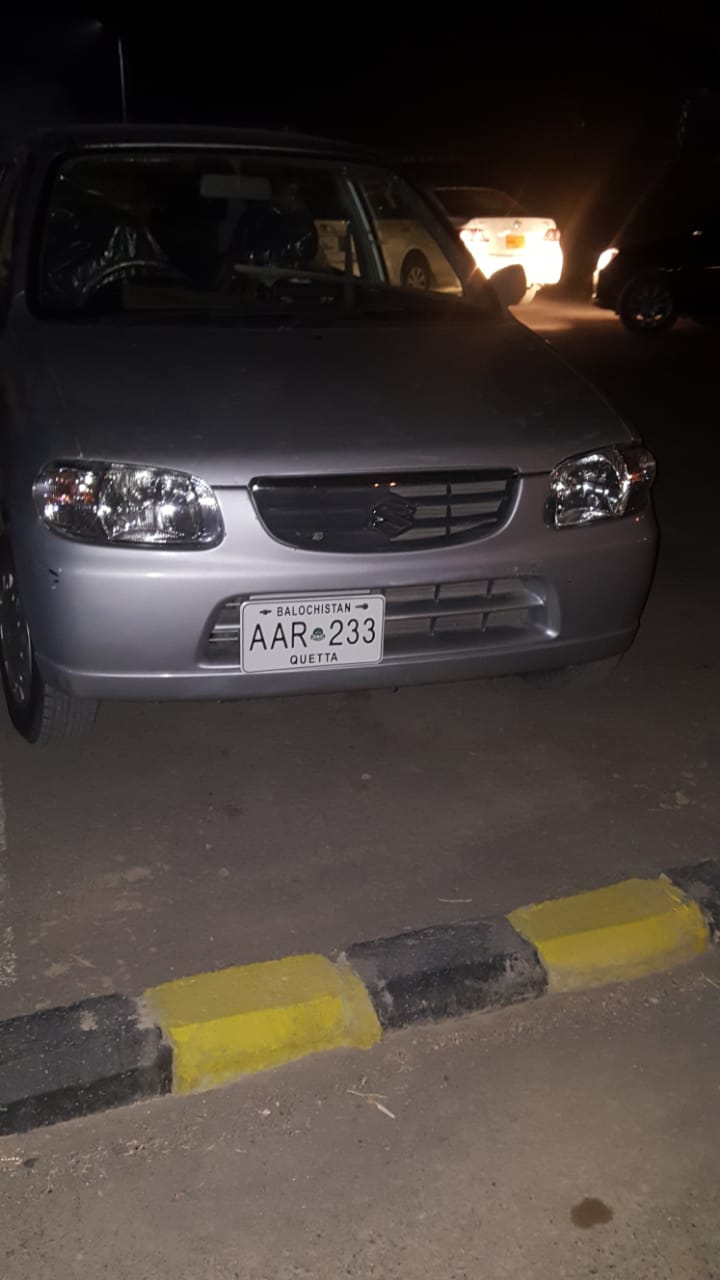license plate: (242, 602, 383, 668)
